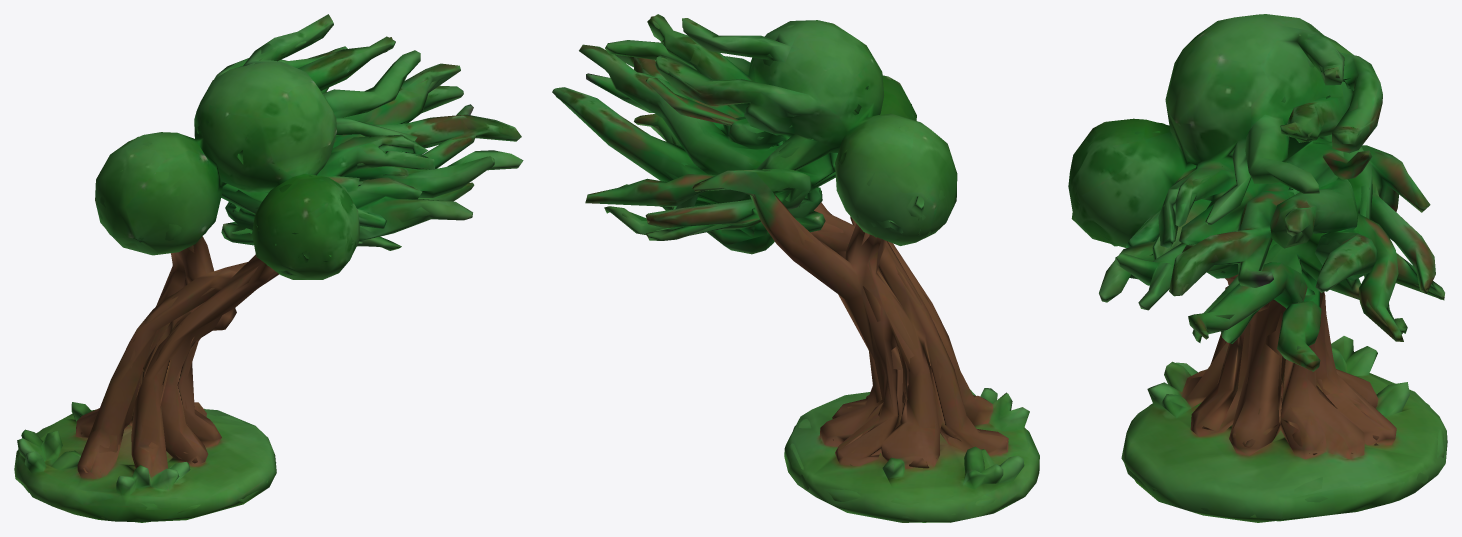
File: bent-tree.glb
The picture shows the model from 3 angles, left to right: view 1: azimuth 30°, elevation 25°; view 2: azimuth 150°, elevation 25°; view 3: azimuth 270°, elevation 25°; orthographic projection. The views are drawn at different scales.
Bounding box in the file's own units: 3.98 × 3.4 × 2.23.
1 material, 1 textured.
